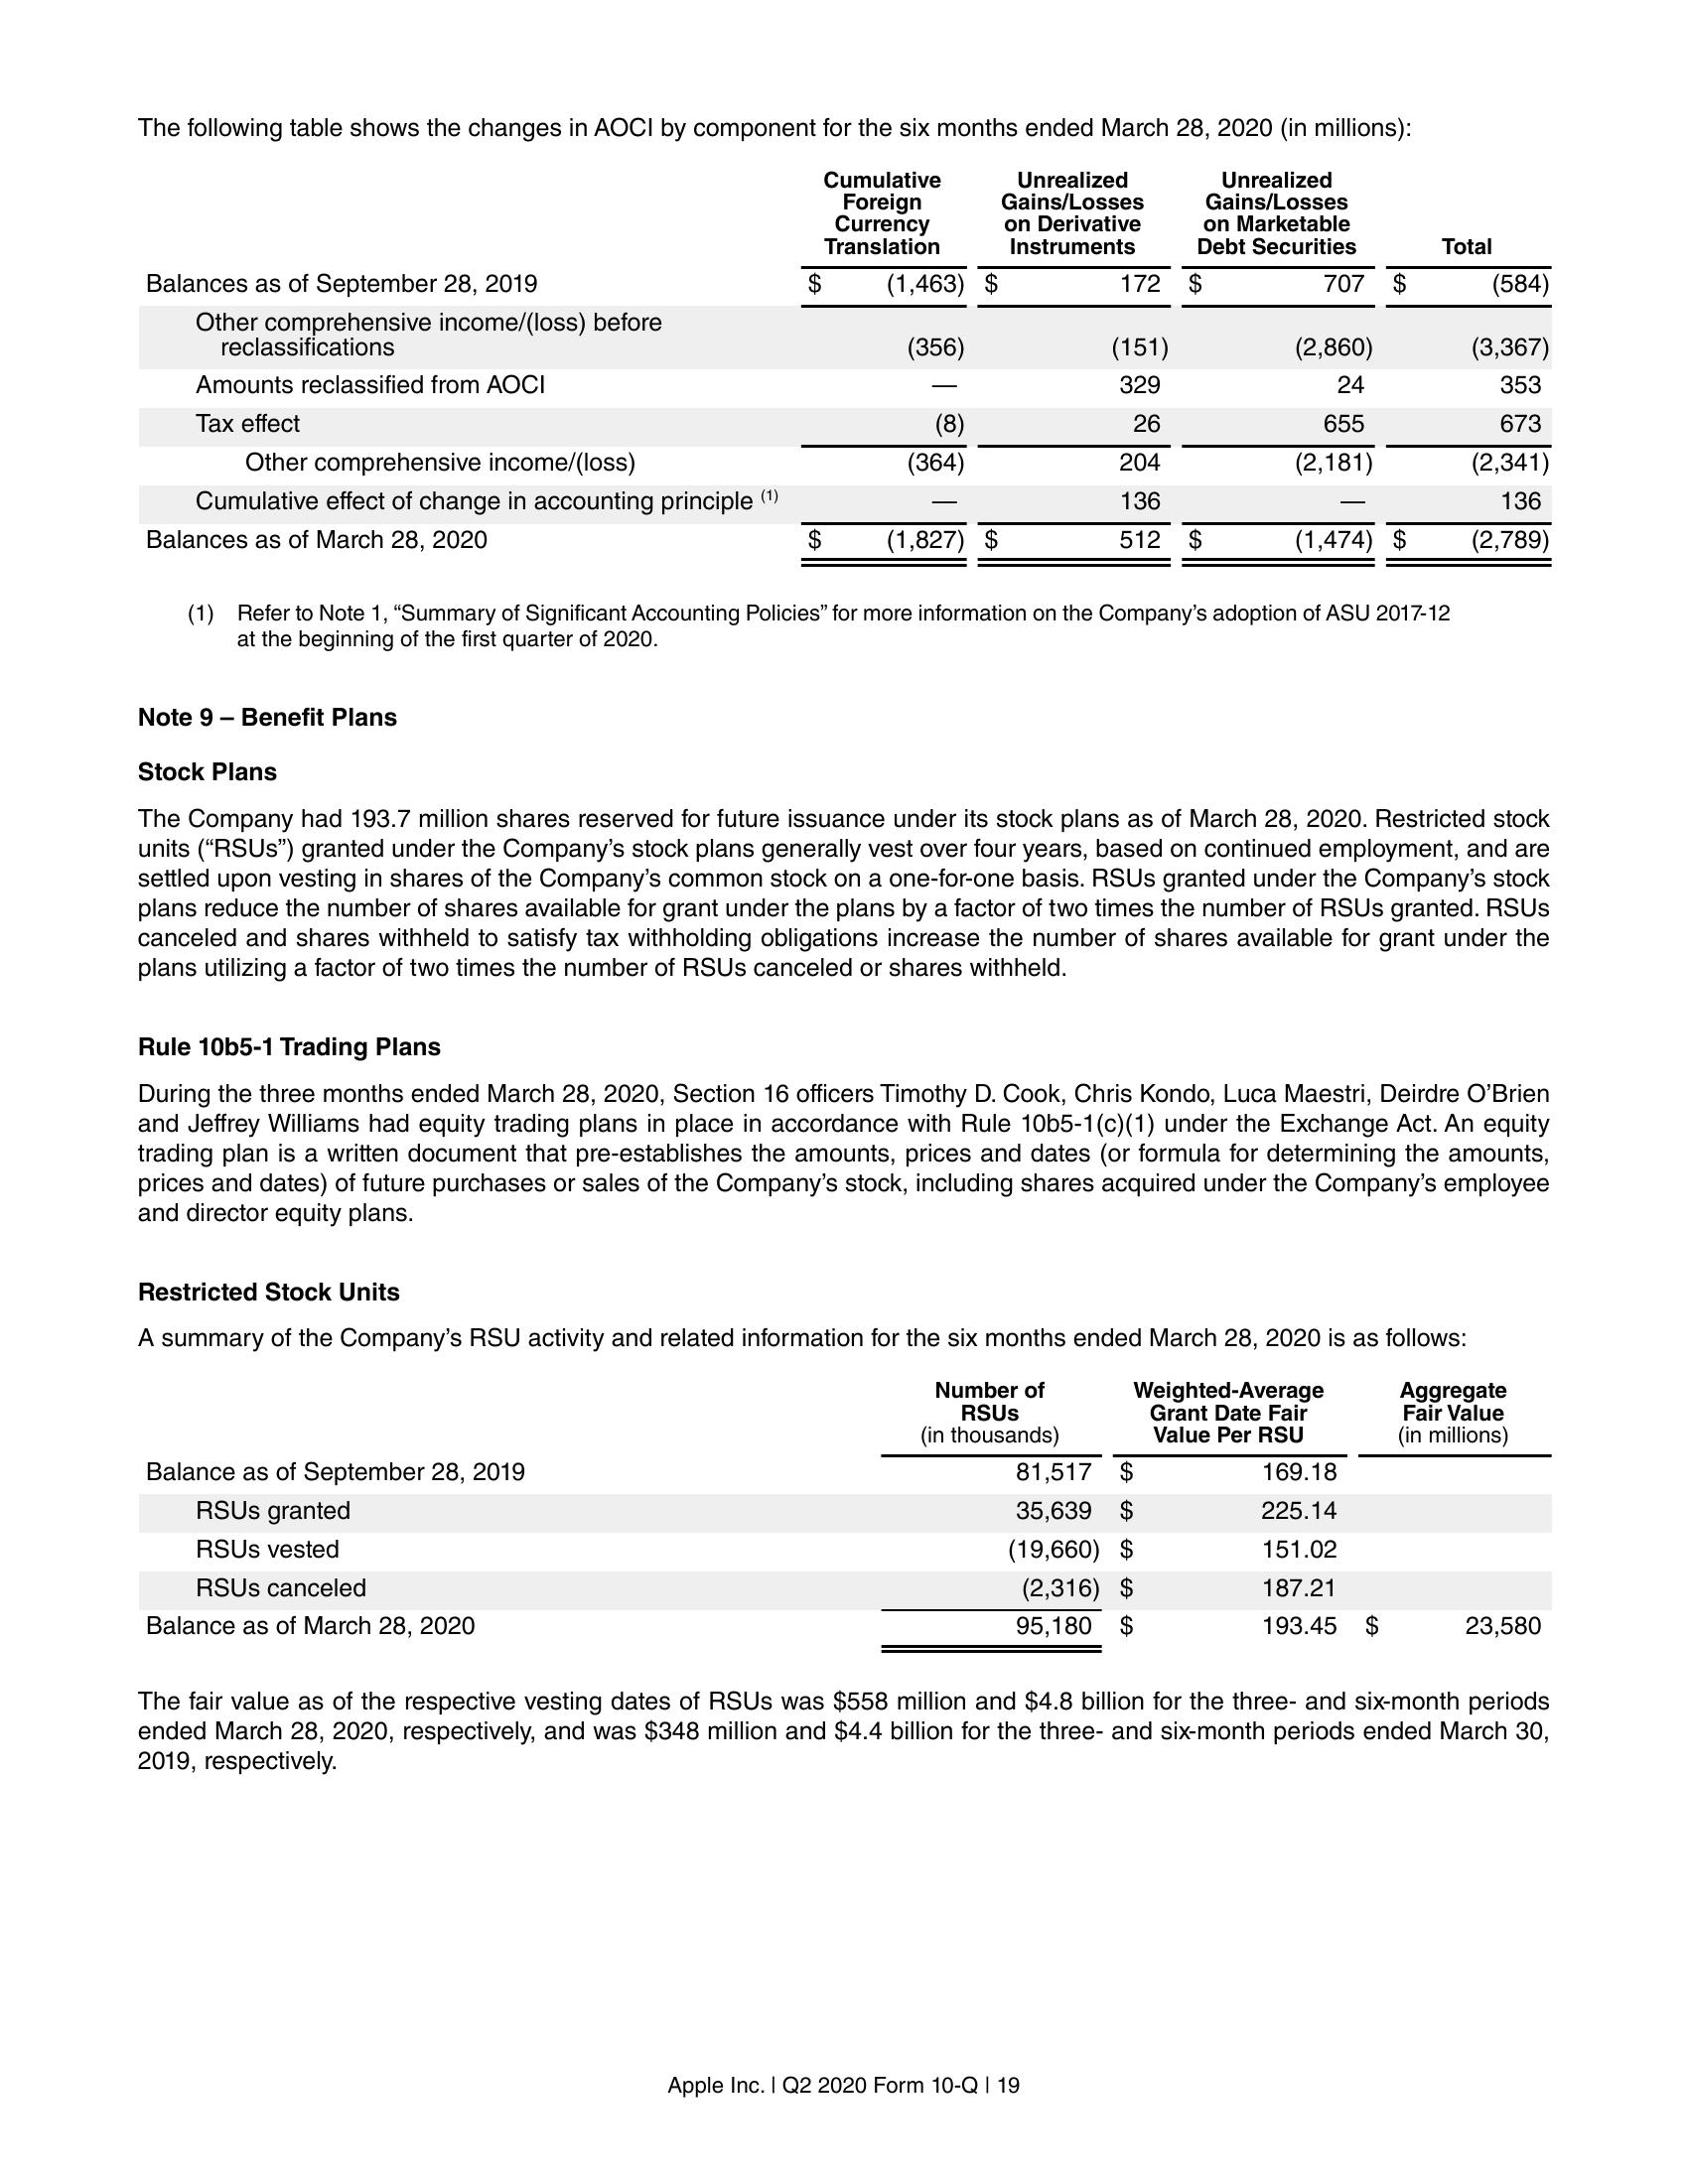table: (137, 167, 1557, 573), (126, 1367, 1551, 1658)
